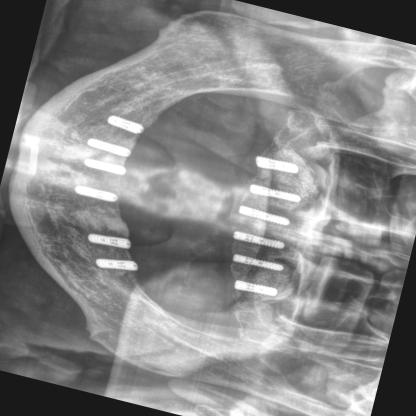ITI: (245, 181, 304, 207), (230, 229, 286, 252), (236, 204, 291, 227), (230, 252, 286, 274), (253, 154, 301, 179), (86, 230, 133, 254), (231, 278, 280, 301), (94, 252, 140, 276), (81, 156, 128, 178), (73, 182, 120, 204), (84, 137, 133, 158), (104, 114, 146, 136)
